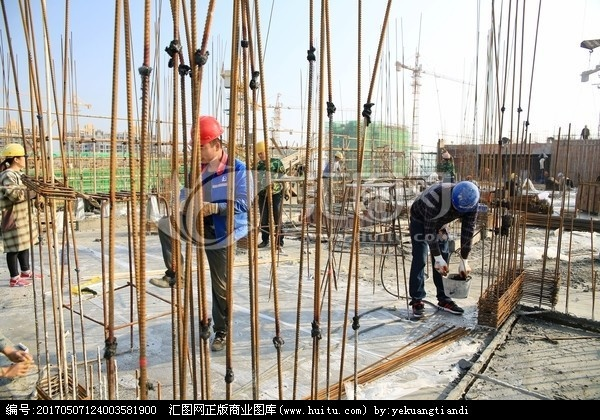blue: (448, 181, 480, 215)
red: (189, 115, 224, 163)
yellow: (1, 141, 26, 171), (253, 139, 267, 160), (334, 149, 342, 162)
